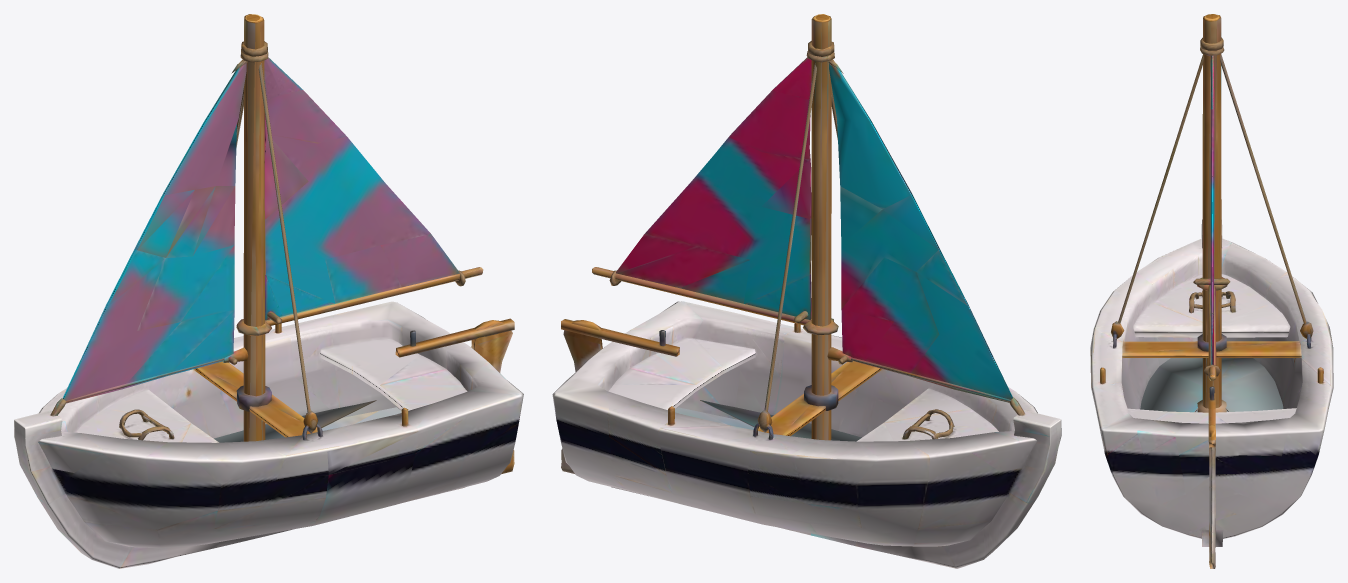
The model's file is sailboat.glb.
3 renders of one model, left to right at view 1: azimuth 30°, elevation 25°; view 2: azimuth 150°, elevation 25°; view 3: azimuth 270°, elevation 25°, orthographic. The views are drawn at different scales.
Size of the model in its own units: 1 by 1 by 0.4966.
Materials: 1 (1 with a texture image).
